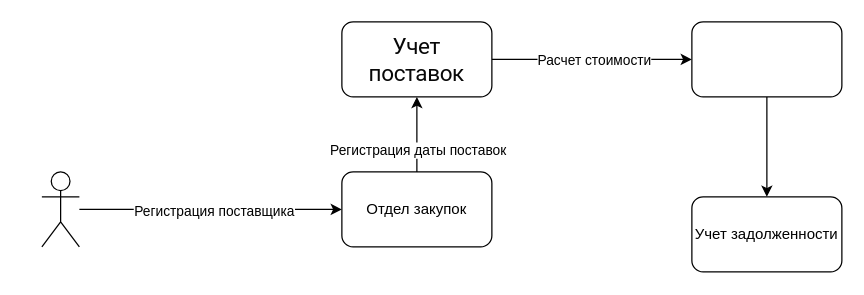
The diagram is 864 pixels wide and 295 high, and some of its shapes have lost their labels. The shapes that lost their labels are listed below. From the top down, each one's box as (x1, y1, x2, y2) in pixels, then its label:
(691, 21, 842, 97): Оплата
(41, 171, 79, 247): Поставщик
